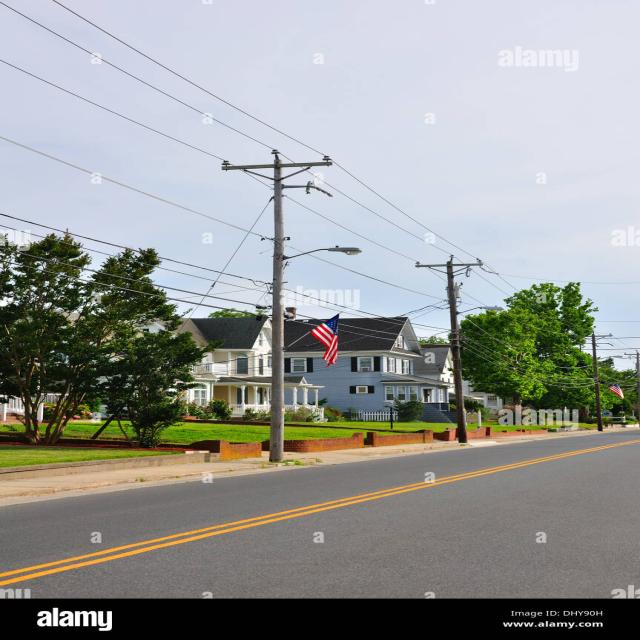light_pole: (223, 148, 330, 188), (416, 256, 490, 276)
